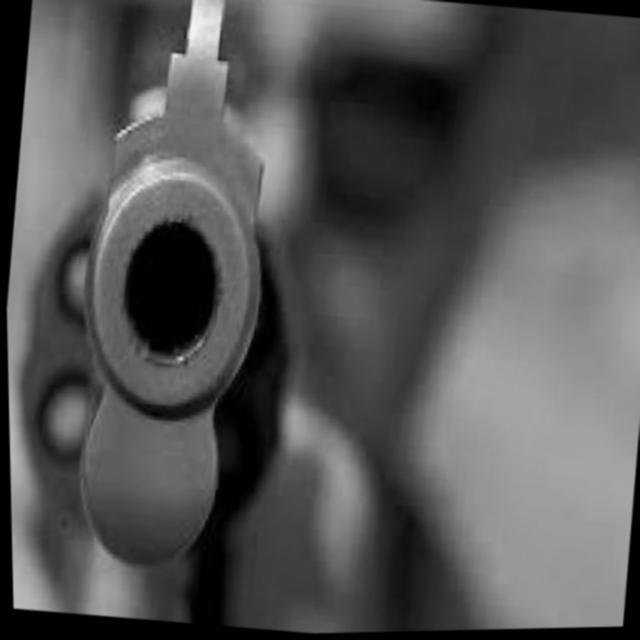weapon: (0, 0, 334, 635)
